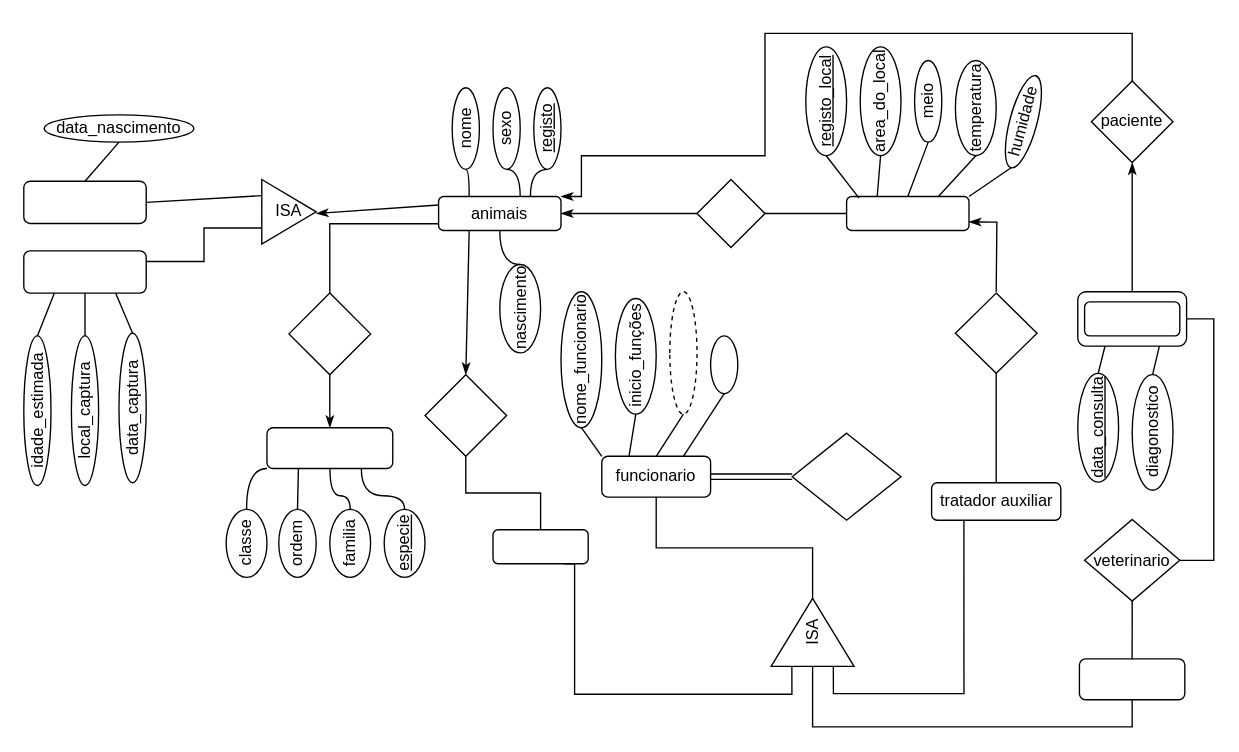
Image size: 1239x752. Some labels were removed from this diagram. The shapes that lost their labels are listed below. From the top down, each one's box as (x1, y1, x2, y2) in pixels, then its label:
(22, 180, 146, 223): cativeiro
(696, 178, 765, 248): local
(845, 195, 969, 231): espaços
(22, 250, 146, 293): captura
(288, 292, 371, 375): pertence
(954, 292, 1037, 373): cuida de
(1083, 301, 1180, 336): consultas
(668, 290, 697, 414): telefones
(709, 335, 738, 394): nif
(424, 373, 507, 456): tratado
(266, 426, 393, 469): classe_biologica
(791, 432, 901, 520): responsavel
(492, 528, 588, 564): tratador
(1078, 658, 1185, 700): veterinarios
